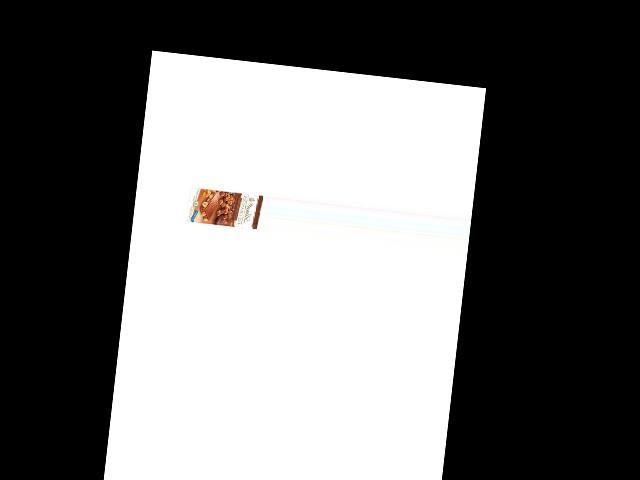chocolate: (189, 182, 261, 231)
